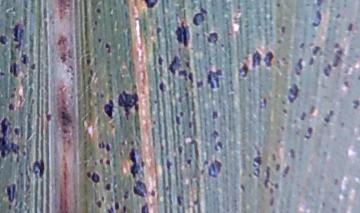tarspot: (1, 114, 21, 160), (116, 90, 142, 120), (173, 19, 192, 48), (125, 148, 141, 178), (11, 21, 25, 52), (251, 144, 262, 179), (205, 68, 223, 89), (191, 7, 208, 28), (131, 179, 149, 198), (31, 157, 47, 178), (286, 82, 301, 104), (332, 41, 343, 70), (206, 159, 222, 178), (167, 54, 182, 74), (236, 60, 250, 81), (101, 99, 115, 119), (60, 108, 73, 128), (250, 48, 262, 69), (262, 51, 275, 70), (263, 164, 272, 191), (6, 182, 17, 204), (310, 8, 322, 28), (205, 30, 218, 46), (293, 57, 303, 77), (176, 69, 189, 84), (323, 109, 335, 125), (7, 61, 19, 77), (142, 1, 160, 10), (303, 126, 313, 142), (321, 63, 331, 78), (174, 191, 183, 207), (258, 96, 269, 109), (139, 201, 150, 213), (95, 195, 105, 208), (103, 41, 112, 55), (157, 79, 166, 93), (176, 143, 185, 157), (212, 141, 223, 152), (311, 45, 322, 56), (1, 33, 9, 48), (299, 109, 307, 124), (187, 70, 194, 87), (90, 170, 99, 183), (163, 157, 171, 171), (173, 114, 181, 128), (20, 52, 28, 66), (208, 129, 218, 140), (121, 190, 131, 201), (12, 125, 21, 137), (184, 158, 193, 169), (154, 25, 163, 36), (351, 98, 360, 109), (342, 79, 351, 90), (331, 176, 340, 187), (288, 147, 295, 161), (282, 165, 290, 177), (195, 79, 204, 89), (157, 52, 163, 67), (120, 203, 129, 213), (238, 181, 247, 191), (346, 21, 354, 32), (104, 141, 112, 152), (44, 111, 52, 122), (96, 140, 104, 151), (268, 193, 274, 207), (104, 182, 112, 192), (186, 120, 194, 130), (113, 199, 120, 210), (307, 56, 315, 65), (309, 105, 315, 117), (211, 110, 218, 120), (93, 18, 100, 28), (192, 196, 199, 206), (280, 24, 286, 35), (275, 162, 281, 173), (270, 151, 276, 162), (30, 61, 36, 72), (89, 68, 95, 79), (104, 159, 112, 167), (320, 149, 328, 157), (83, 57, 91, 65), (150, 189, 157, 198), (7, 103, 14, 112), (194, 30, 200, 40), (273, 180, 279, 190), (334, 12, 341, 20), (201, 159, 209, 166), (178, 109, 185, 117), (106, 206, 114, 213), (279, 124, 286, 132), (319, 200, 326, 208), (97, 36, 103, 45), (245, 86, 252, 93), (314, 1, 322, 7), (337, 121, 345, 127), (85, 170, 91, 178), (282, 108, 288, 115), (95, 7, 102, 13), (9, 93, 15, 100), (299, 41, 304, 49), (275, 3, 281, 8), (311, 32, 315, 39), (357, 74, 360, 83), (1, 71, 6, 76)
